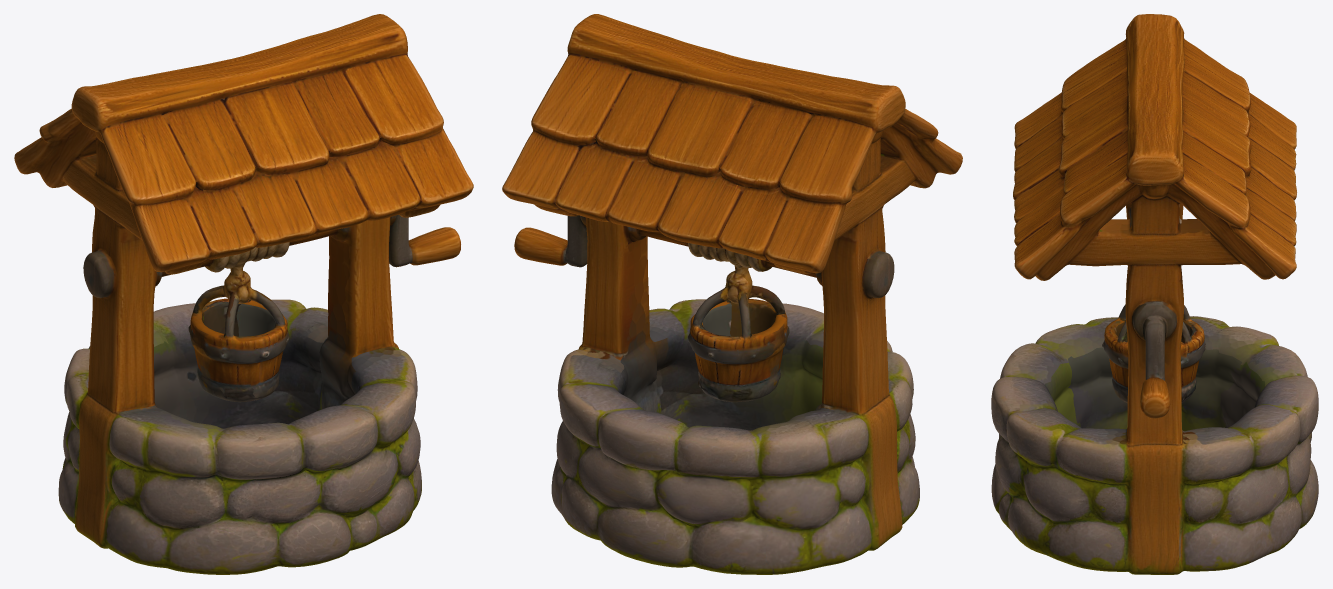
The model's file is ck_well.glb.
The picture shows the model from 3 angles, left to right: view 1: azimuth 30°, elevation 25°; view 2: azimuth 150°, elevation 25°; view 3: azimuth 270°, elevation 25°; orthographic projection. The views are drawn at different scales.
Parts seen in each view (by area): view 1: ck_well; view 2: ck_well; view 3: ck_well.
Boxes of the visible parts, bbox=[...] form: ck_well: bbox=[14, 14, 473, 574]; ck_well: bbox=[502, 14, 962, 574]; ck_well: bbox=[991, 14, 1318, 574].
Bounding box in the file's own units: 1.72 × 1.97 × 1.38.
1 material, 1 textured.
